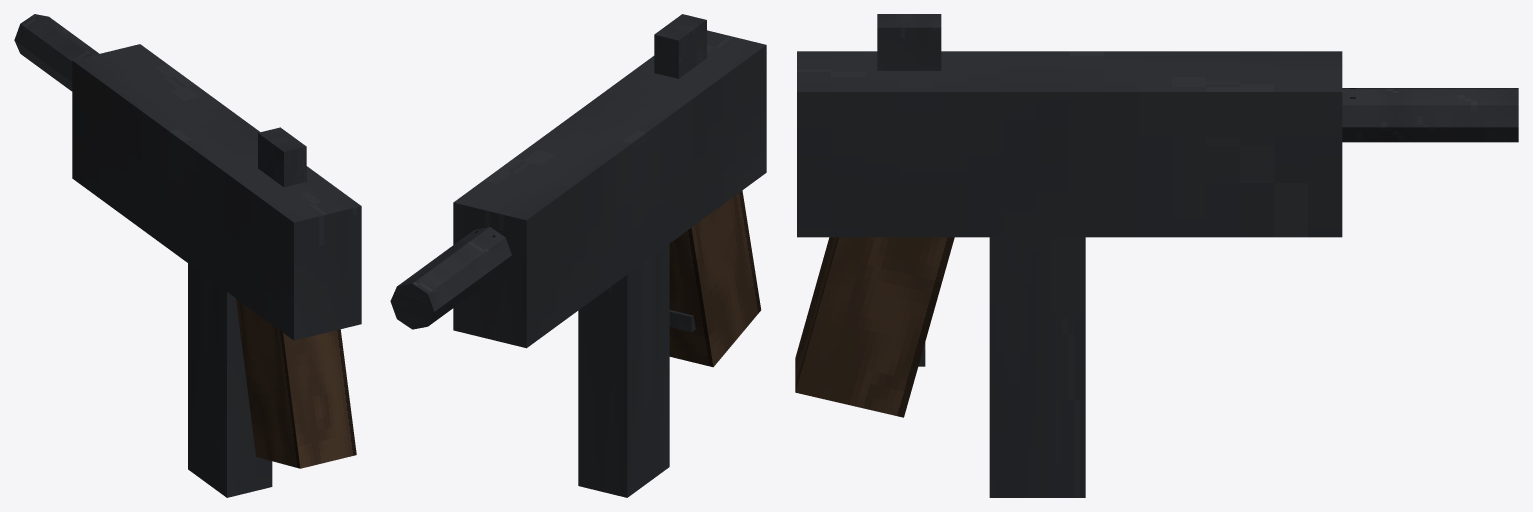
File: gun_smg.glb
3 views of the same model, side by side, from view 1: azimuth 30°, elevation 25°; view 2: azimuth 150°, elevation 25°; view 3: azimuth 270°, elevation 25° (orthographic). The views are drawn at different scales.
Visible parts, largest first — view 1: Gun_smg; view 2: Gun_smg; view 3: Gun_smg.
Part boxes in pixels (x1,y1,x2,y2): Gun_smg: (14, 14, 361, 497); Gun_smg: (390, 14, 766, 497); Gun_smg: (795, 14, 1518, 497).
Bounding box in the file's own units: 0.06 × 0.319 × 0.4512.
Materials: 2 (2 with a texture image).
